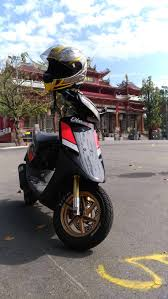helmet: (38, 48, 90, 85)
